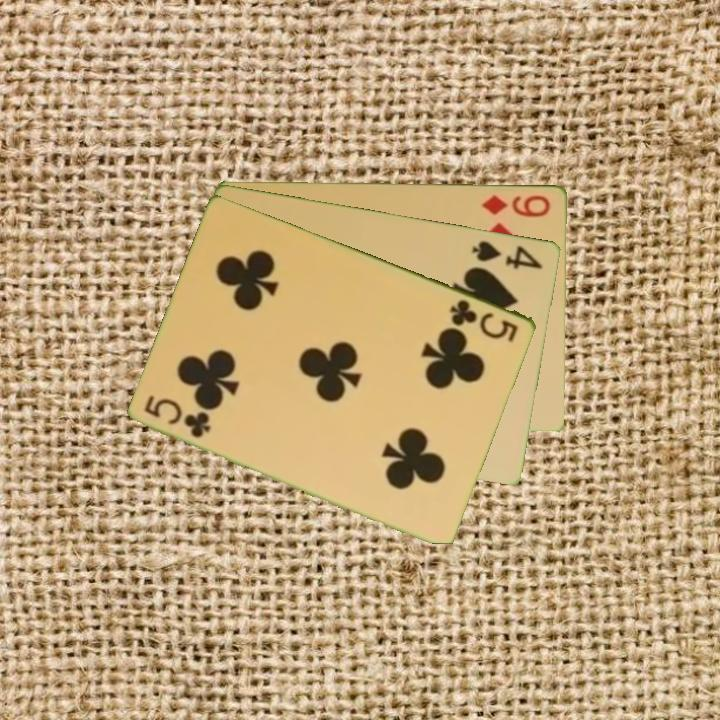4s: (468, 237, 546, 272)
5c: (446, 295, 522, 344), (141, 393, 215, 441)
9d: (478, 191, 554, 219)
